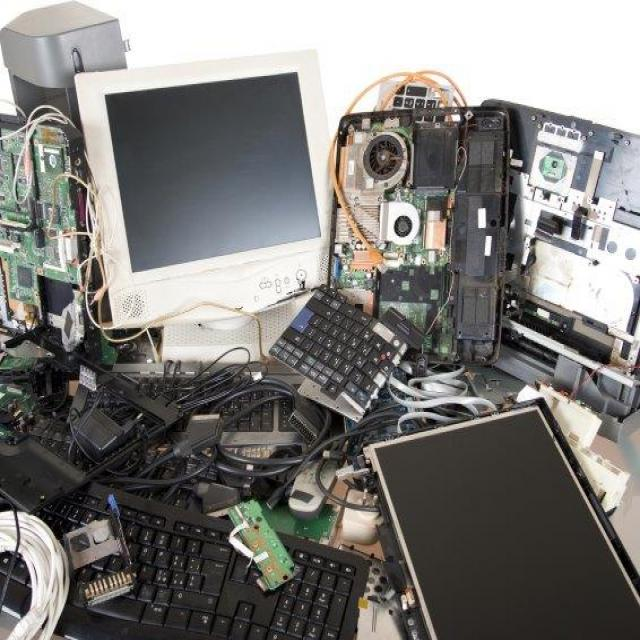heap: (18, 115, 592, 640)
plastic: (269, 288, 394, 423)
